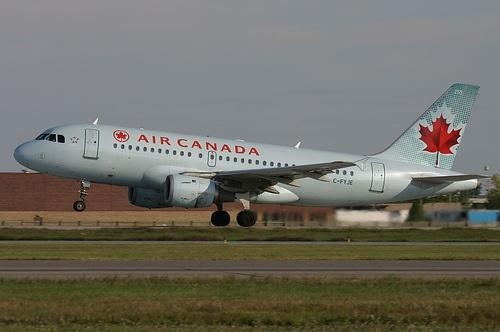aeroplane: (13, 82, 491, 229)
